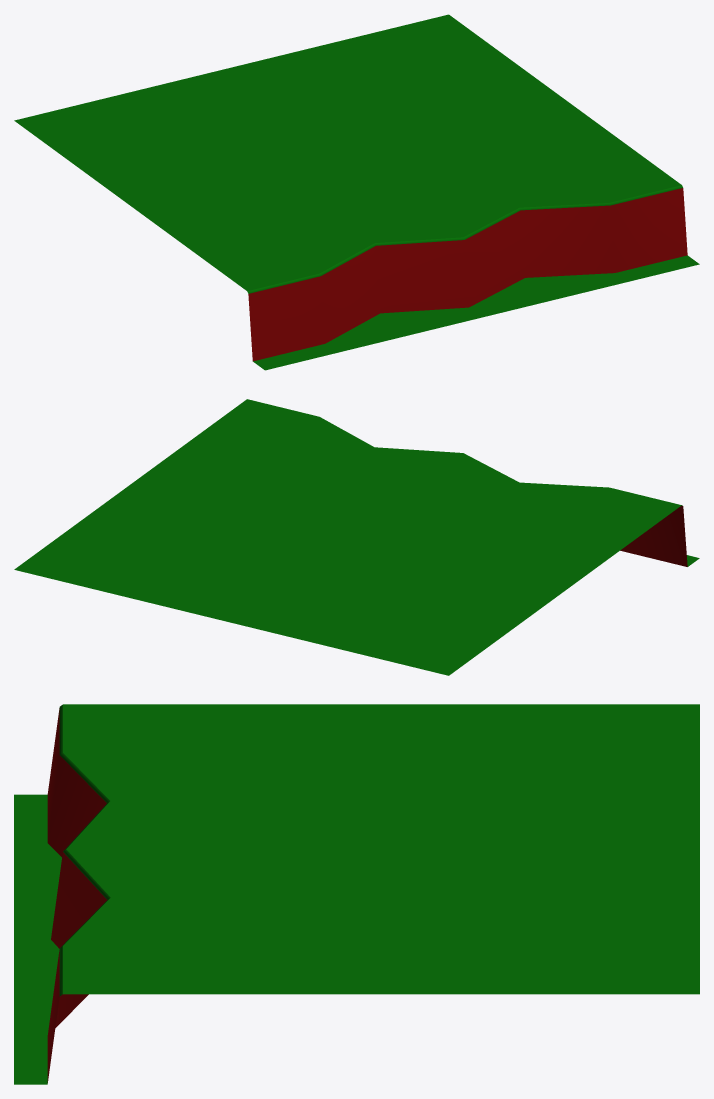
Rendered from Cliff.fbx.
3 views of the same model, one above another, from view 1: azimuth 30°, elevation 25°; view 2: azimuth 150°, elevation 25°; view 3: azimuth 270°, elevation 25° (orthographic). The views are drawn at different scales.
Parts seen in each view (by area): view 1: Cliff; view 2: Cliff; view 3: Cliff.
Part boxes in pixels (x1,y1,x2,y2): Cliff: (14,14,699,370); Cliff: (14,399,699,675); Cliff: (14,704,699,1084).
Size of the model in its own units: 7 by 1.02 by 7.
